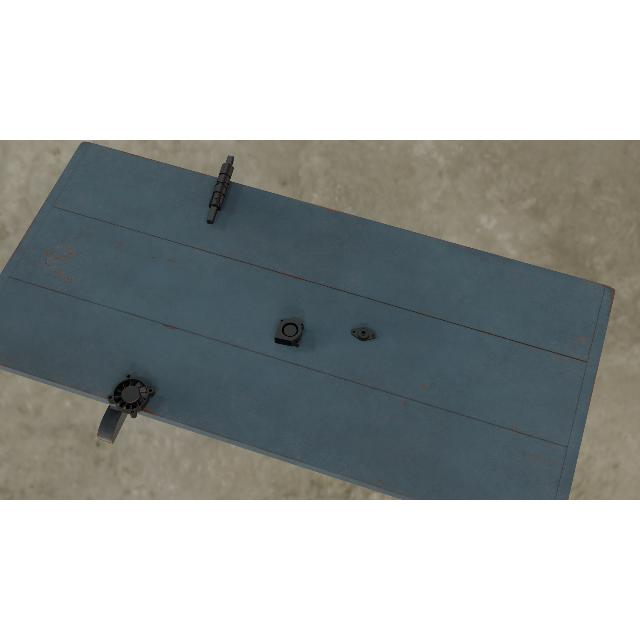Pieza1: (203, 153, 237, 227)
Pieza2: (349, 324, 377, 344)
Pieza3: (274, 316, 304, 348)
Pieza4: (106, 372, 156, 420)
